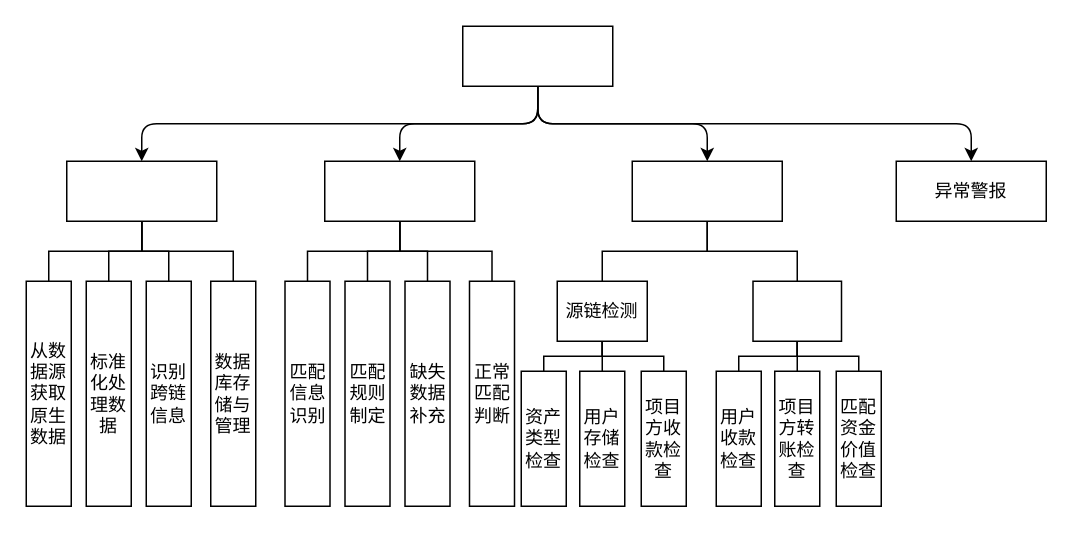
Some shapes in this 1073 by 533 pixel diagram are drawn without their labels. The shapes that lost their labels are listed below. From the top down, each one's centre as x and y in pixels, then its label:
the point at 537,55: 去中心化金融 跨链监控系统
the point at 141,190: 数据收集
the point at 399,190: 交易匹配
the point at 706,190: 异常检测
the point at 797,310: 目标链 检测
